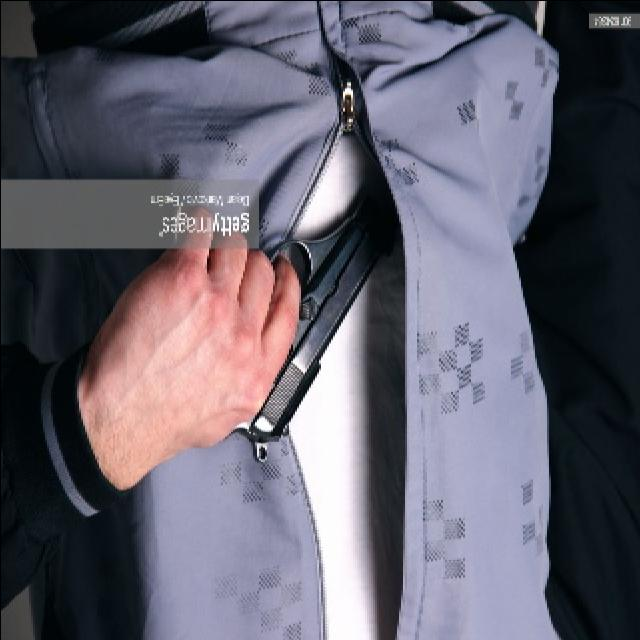handgun: (241, 175, 409, 473)
